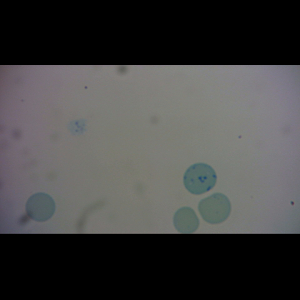aggregate reticulocyte: (182, 162, 218, 196)
erythrocyte: (196, 192, 233, 226), (24, 192, 56, 223), (172, 206, 200, 234)
